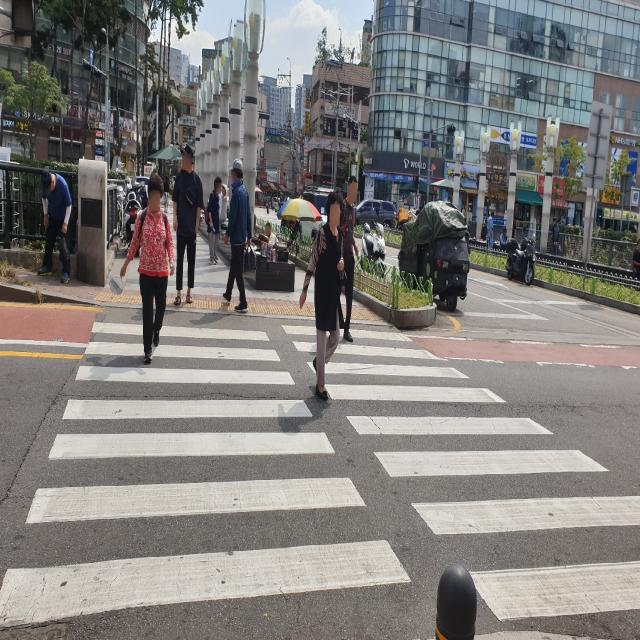횡단보도: (0, 322, 640, 639)
